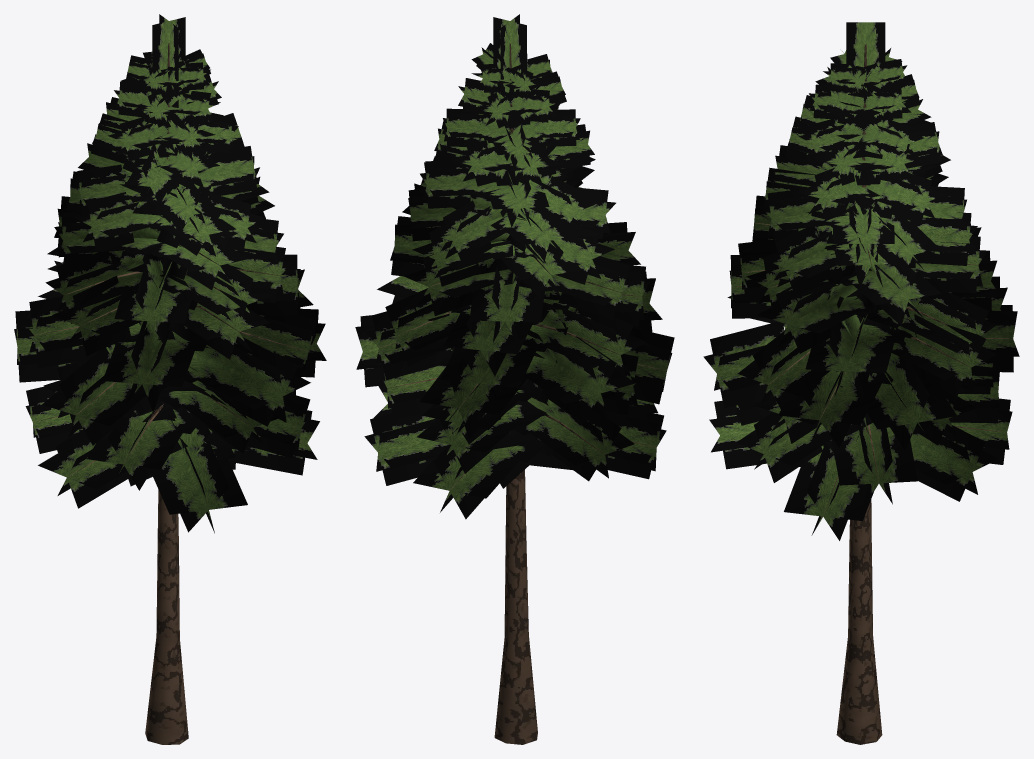
The model's file is pine1_lod0.fbx.
The picture shows the model from 3 angles, left to right: view 1: azimuth 30°, elevation 25°; view 2: azimuth 150°, elevation 25°; view 3: azimuth 270°, elevation 25°; orthographic projection.
Visible parts, largest first — view 1: pine1_lod0; view 2: pine1_lod0; view 3: pine1_lod0.
Boxes of the visible parts, x1,y1,x2,y2 form: pine1_lod0: [14, 14, 326, 744]; pine1_lod0: [355, 14, 674, 744]; pine1_lod0: [703, 22, 1019, 744].
Bounding box in the file's own units: 6.53 × 16.22 × 6.51.
Materials: 2 (2 with a texture image).
